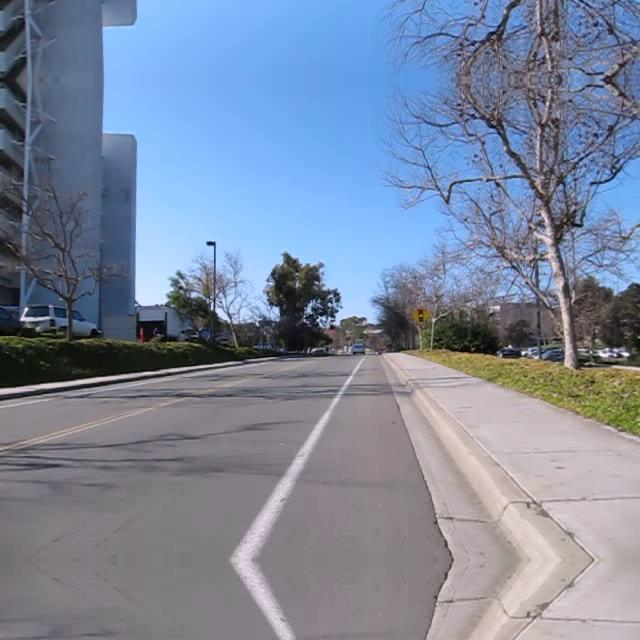signalAhead: (408, 304, 432, 326)
